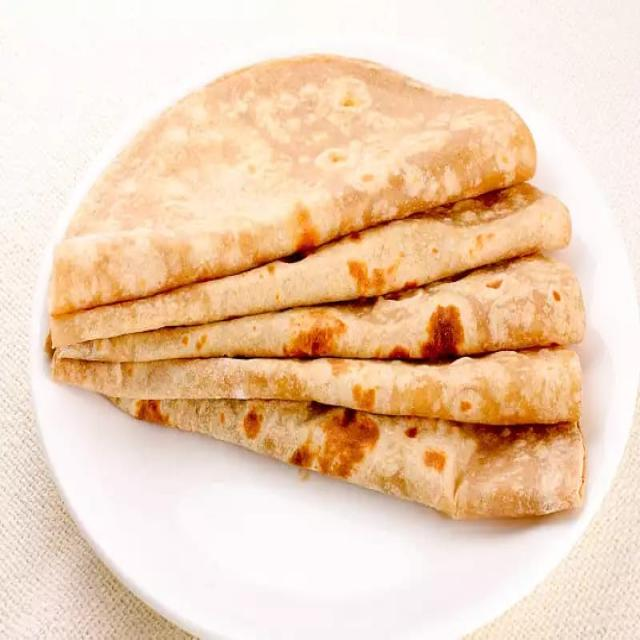chapathi: (39, 42, 602, 547)
